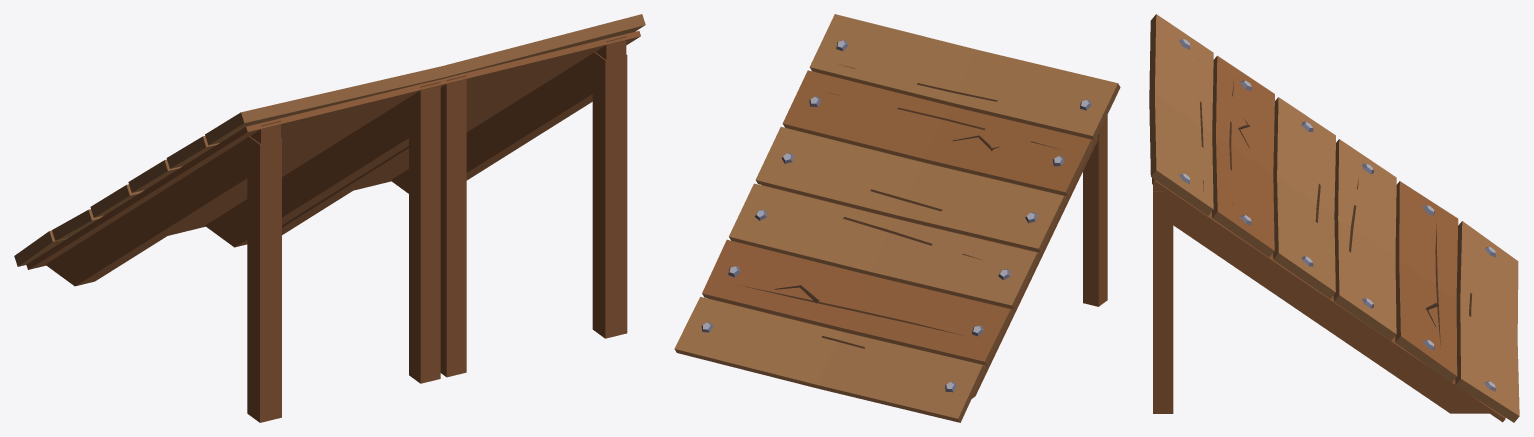
File: ramp_plank_tiles_crack1.glb
3 renders of one model, left to right at view 1: azimuth 30°, elevation 25°; view 2: azimuth 150°, elevation 25°; view 3: azimuth 270°, elevation 25°, orthographic. The views are drawn at different scales.
Visible parts, largest first — view 1: Right, Left; view 2: Right, Left; view 3: Left, Right.
Boxes of the visible parts, bbox=[...] form: Right: bbox=[14, 66, 445, 422]; Left: bbox=[282, 14, 645, 377]; Right: bbox=[817, 49, 1120, 422]; Left: bbox=[674, 14, 976, 388]; Left: bbox=[1149, 94, 1519, 422]; Right: bbox=[1149, 14, 1518, 339].
Bounding box in the file's own units: 4 × 3.04 × 4.
